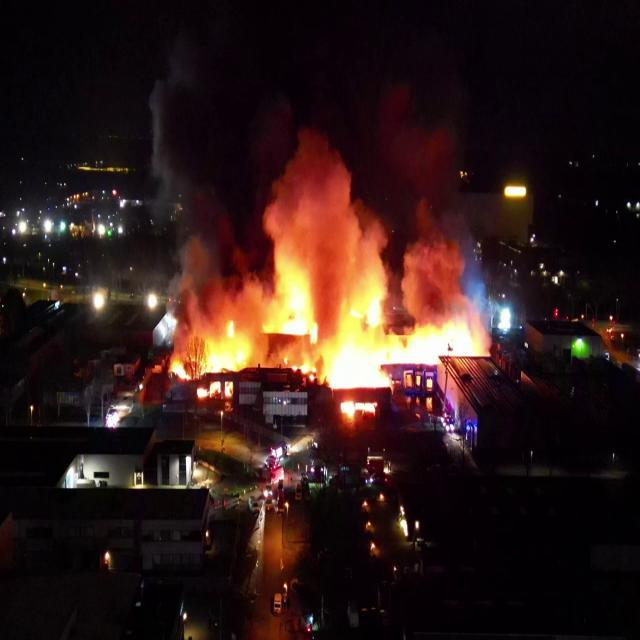Fire: (169, 249, 487, 417), (168, 313, 258, 394)
Smoke: (142, 3, 488, 317)
